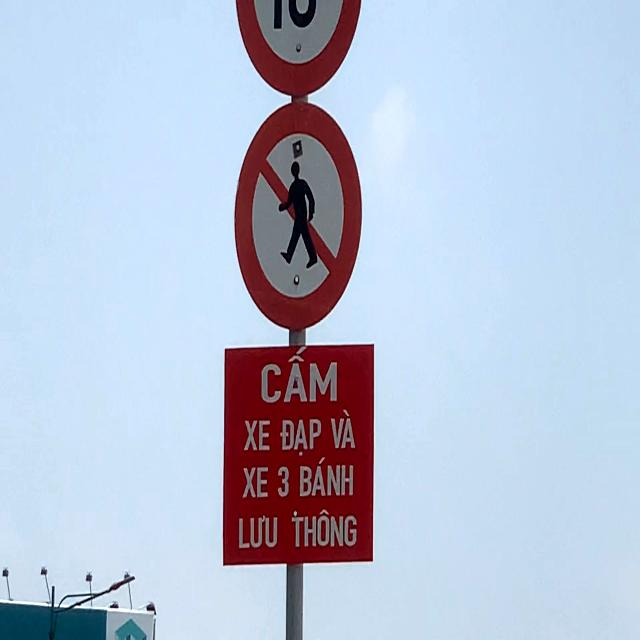P.112: (234, 101, 364, 332)
